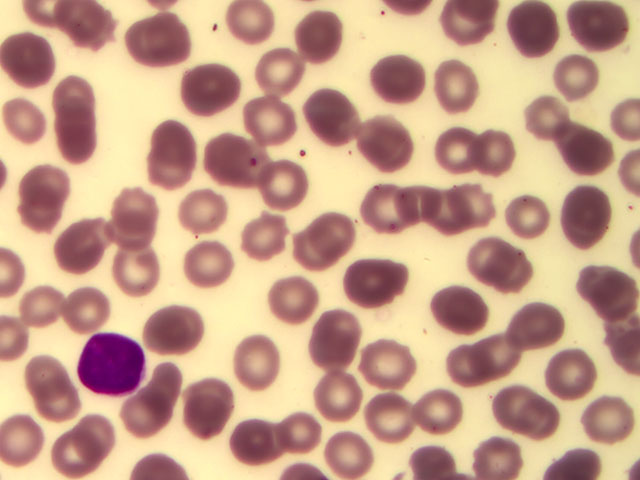RBC: (3, 31, 60, 89), (131, 14, 188, 72), (47, 60, 104, 118), (45, 112, 102, 170), (4, 93, 61, 151), (16, 153, 73, 211), (9, 188, 66, 246), (50, 214, 107, 272), (104, 182, 161, 240), (110, 248, 167, 306), (178, 240, 235, 298), (168, 185, 225, 243), (147, 145, 204, 203), (146, 116, 203, 174), (189, 57, 246, 115), (241, 41, 298, 99), (240, 97, 297, 155), (291, 9, 348, 67), (300, 93, 357, 151), (364, 51, 421, 109), (355, 119, 412, 177), (258, 157, 315, 215), (209, 135, 266, 193), (233, 209, 290, 267), (289, 215, 346, 273), (360, 184, 417, 242), (395, 177, 452, 235), (434, 187, 491, 245), (430, 126, 487, 184), (462, 117, 519, 175), (430, 59, 487, 117), (513, 86, 570, 144), (566, 116, 623, 174), (554, 48, 611, 106), (508, 5, 565, 63), (559, 183, 616, 241), (502, 193, 559, 251), (466, 241, 523, 299), (433, 280, 490, 338), (352, 252, 409, 310), (311, 310, 368, 368), (259, 267, 316, 325), (227, 339, 284, 397), (141, 302, 198, 360), (139, 354, 196, 412), (116, 392, 173, 450), (76, 403, 133, 461), (37, 422, 94, 480), (35, 383, 92, 441), (21, 347, 78, 405), (15, 275, 72, 333), (51, 280, 108, 338), (218, 416, 275, 474), (280, 401, 337, 459), (314, 422, 371, 480), (317, 367, 374, 425), (362, 384, 419, 442), (412, 384, 469, 442), (356, 339, 413, 397), (432, 342, 489, 400), (468, 326, 525, 384), (513, 297, 570, 355), (543, 348, 600, 406), (493, 385, 550, 443), (470, 422, 527, 480), (583, 388, 640, 446), (578, 261, 635, 319), (1, 413, 57, 471), (56, 1, 113, 57)
WBC: (77, 334, 146, 394)
